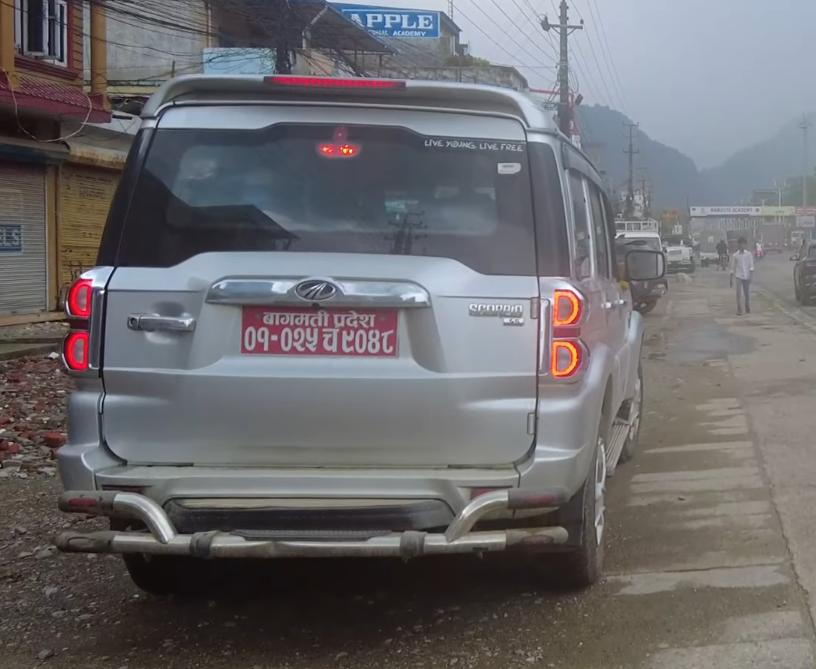SUV: (50, 49, 657, 596)
